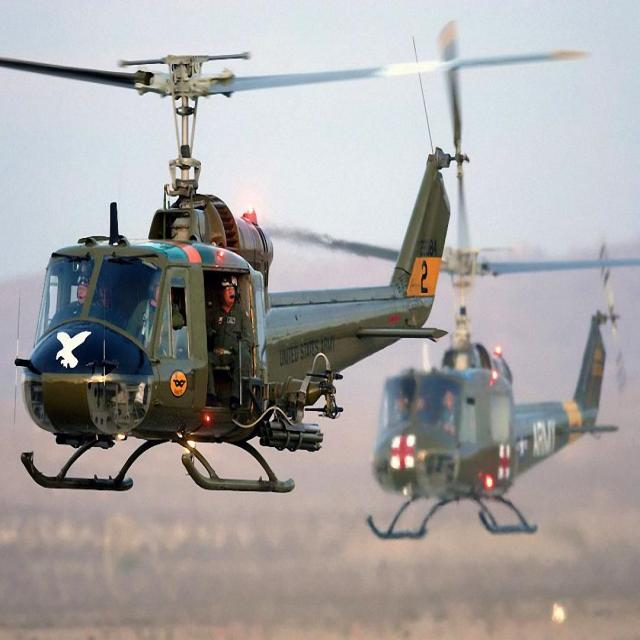MIL_HELO: (0, 26, 587, 510), (281, 204, 640, 542)
